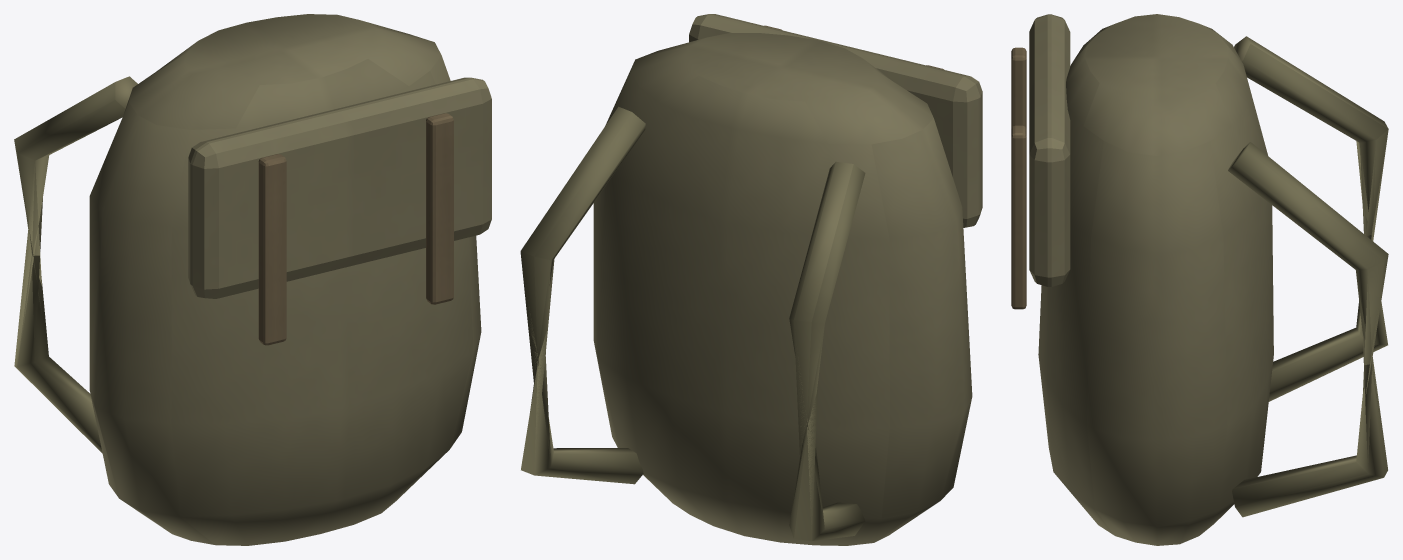
The model's file is prop_canvas_pack.glb.
3 views of the same model, side by side, from view 1: azimuth 30°, elevation 25°; view 2: azimuth 150°, elevation 25°; view 3: azimuth 270°, elevation 25° (orthographic). The views are drawn at different scales.
Visible parts, largest first — view 1: pack_canvas, pack_straps; view 2: pack_canvas, pack_straps; view 3: pack_canvas, pack_straps.
Part boxes in pixels (box(x1,y1,x2,y2)): pack_canvas: box(89, 14, 491, 545); pack_straps: box(14, 76, 453, 453); pack_canvas: box(593, 14, 982, 545); pack_straps: box(520, 25, 944, 540); pack_canvas: box(1029, 14, 1273, 545); pack_straps: box(1011, 36, 1388, 517).
Bounding box in the file's own units: 0.4 × 0.47 × 0.3685.
Materials: 2 (2 with a texture image).
